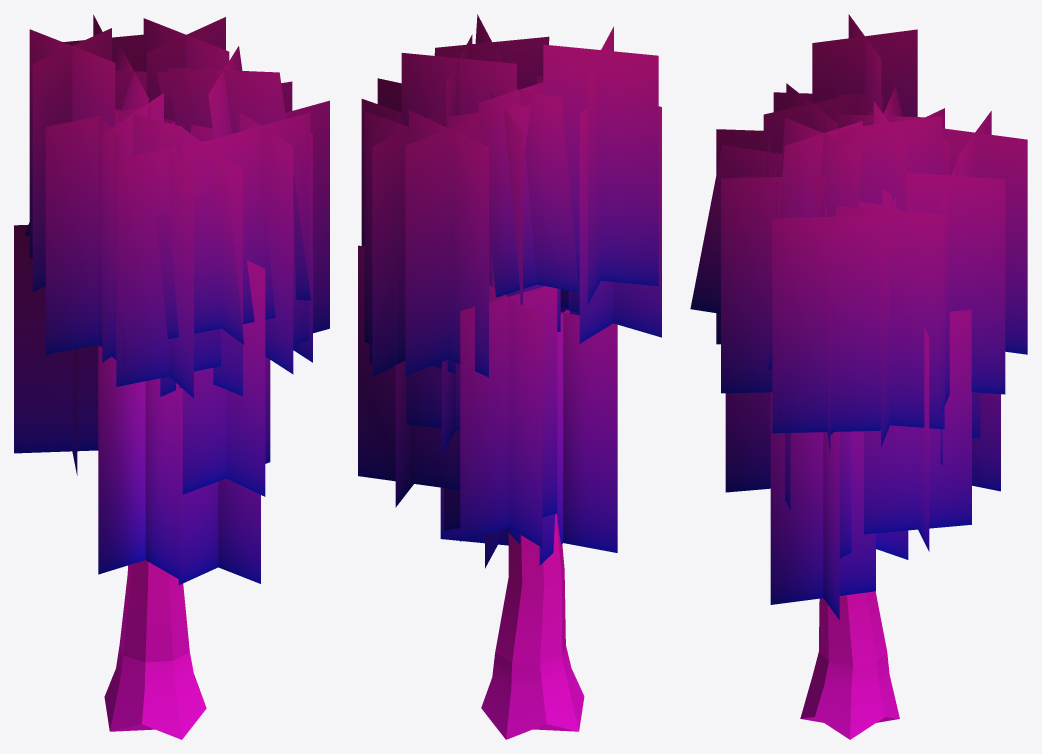
File: synty-tree-willow-small-01.gltf
3 views of the same model, side by side, from view 1: azimuth 30°, elevation 25°; view 2: azimuth 150°, elevation 25°; view 3: azimuth 270°, elevation 25° (orthographic). The views are drawn at different scales.
Visible parts, largest first — view 1: SM_Tree_Willow_Small_01; view 2: SM_Tree_Willow_Small_01; view 3: SM_Tree_Willow_Small_01.
Part boxes in pixels (x1,y1,x2,y2): SM_Tree_Willow_Small_01: (14, 14, 329, 739); SM_Tree_Willow_Small_01: (358, 14, 661, 739); SM_Tree_Willow_Small_01: (690, 14, 1027, 739).
Size of the model in its own units: 2.12 by 4.9 by 2.28.
